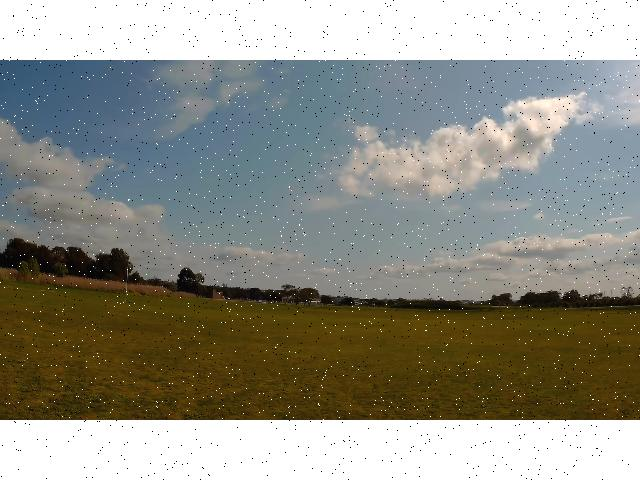Anti-Drone: (267, 170, 317, 206)
